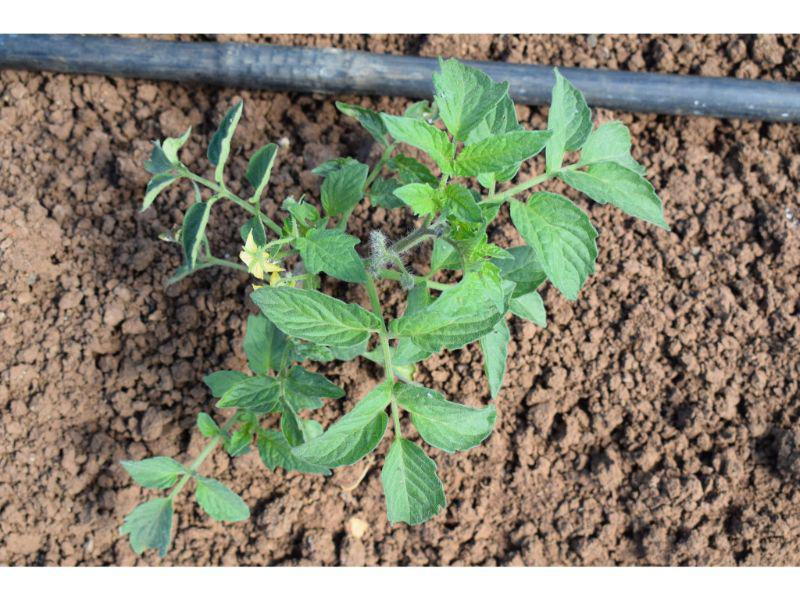tomato: (123, 52, 671, 553)
